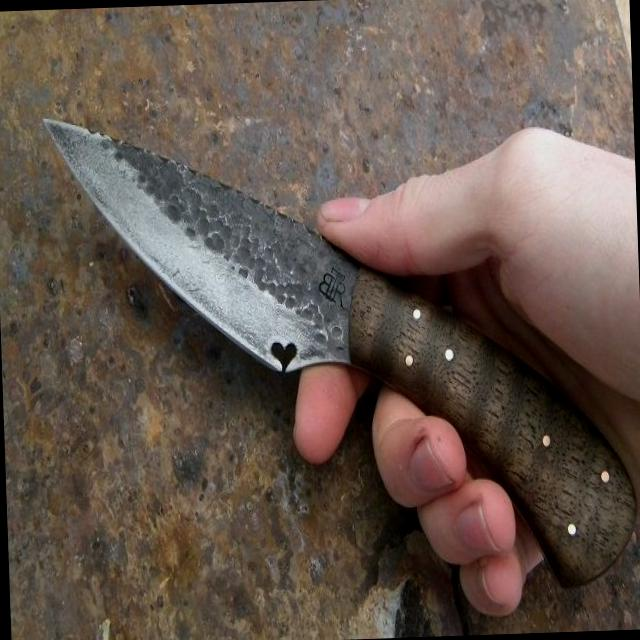knife: (24, 88, 534, 632)
